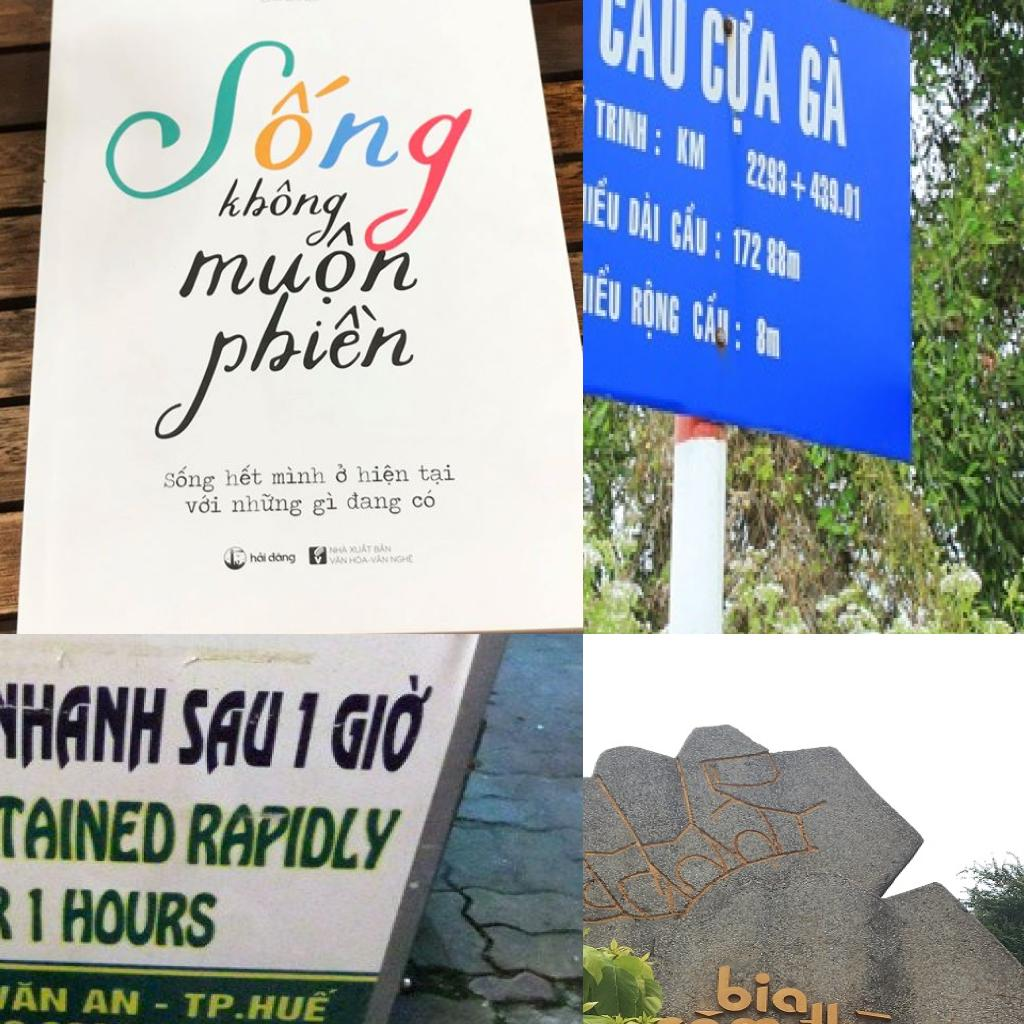text: (120, 28, 491, 258), (148, 288, 431, 443), (0, 679, 171, 778), (181, 800, 408, 874), (0, 790, 181, 870), (319, 672, 447, 780), (699, 0, 787, 157), (205, 176, 356, 250), (168, 685, 288, 778), (59, 888, 225, 952), (596, 0, 693, 103), (795, 20, 853, 158), (190, 214, 363, 252), (593, 92, 666, 166), (730, 221, 806, 290), (710, 963, 810, 1013), (668, 189, 726, 270), (629, 270, 685, 353), (744, 144, 810, 212), (691, 287, 746, 356), (808, 166, 865, 230), (246, 986, 342, 1024), (583, 163, 627, 238), (583, 249, 625, 327), (286, 692, 323, 771), (230, 488, 304, 522), (0, 979, 73, 1013), (793, 1002, 904, 1024), (626, 186, 664, 250), (655, 1006, 786, 1024), (81, 985, 146, 1018), (674, 120, 710, 178), (18, 884, 49, 944), (344, 488, 403, 518), (160, 465, 220, 494), (182, 992, 238, 1020), (355, 461, 412, 488), (269, 463, 329, 485), (222, 462, 263, 490), (419, 460, 458, 487), (185, 493, 223, 518), (310, 490, 338, 520), (411, 489, 440, 511), (268, 550, 299, 566), (583, 77, 590, 140), (332, 461, 350, 485), (369, 552, 391, 566), (349, 543, 374, 555), (349, 552, 369, 566), (250, 550, 268, 564), (373, 542, 394, 554), (328, 545, 349, 556), (328, 555, 349, 565), (234, 1012, 248, 1020), (258, 0, 282, 4), (313, 556, 323, 565), (283, 0, 305, 4)
